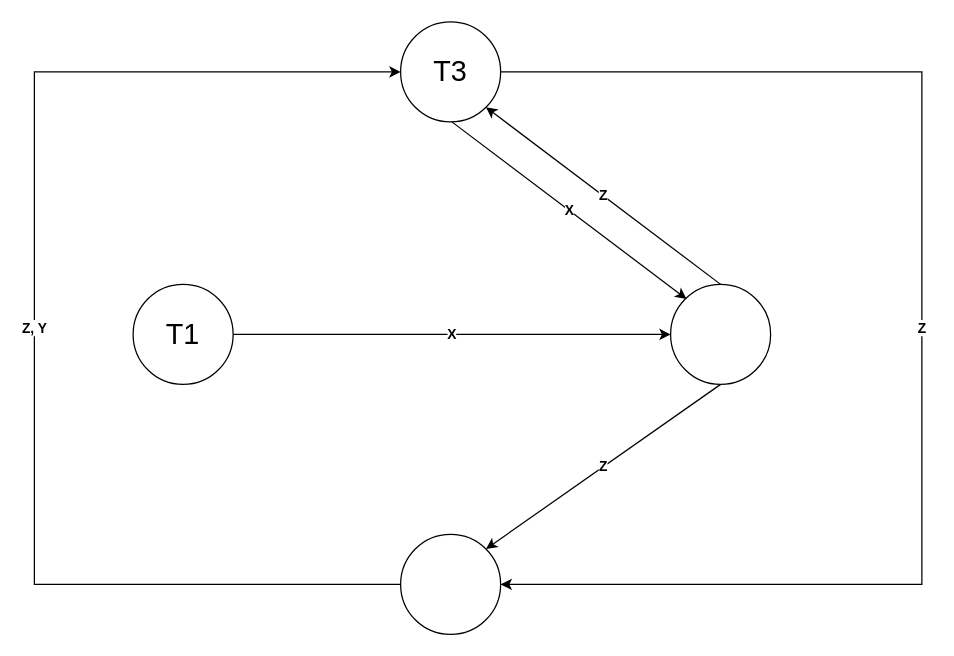
This 954x656 diagram has some shape labels left out. The shapes that lost their labels are listed below. From the top down, each one's box as (x1, y1, x2, y2) in pixels, then its label:
(669, 283, 771, 384): T2
(399, 533, 501, 634): T4
